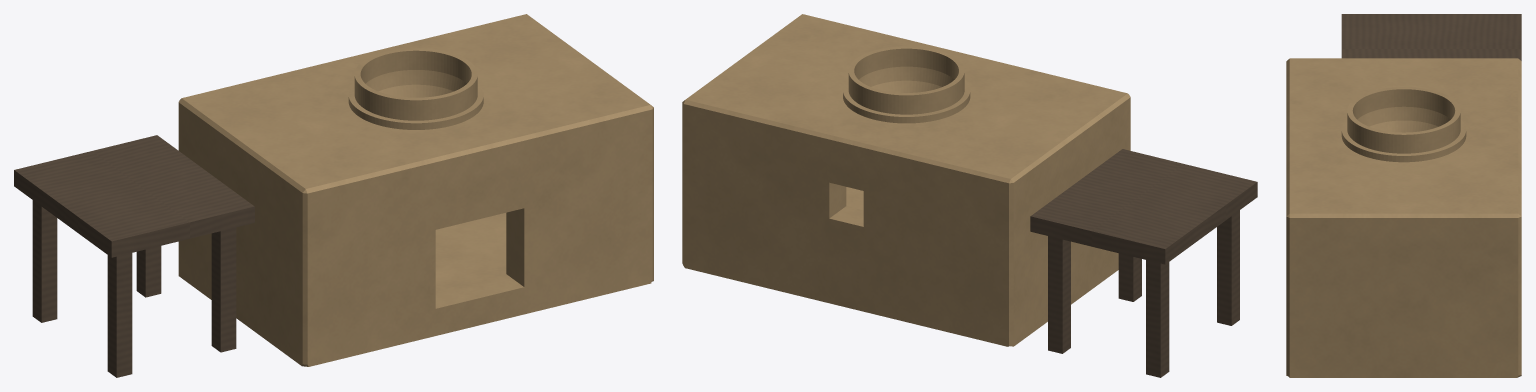
Rendered from W2-stove-A-LOD0.glb.
The picture shows the model from 3 angles, left to right: view 1: azimuth 30°, elevation 25°; view 2: azimuth 150°, elevation 25°; view 3: azimuth 270°, elevation 25°; orthographic projection. The views are drawn at different scales.
Parts seen in each view (by area): view 1: C_LIFE_W2_STOVE_A_V1__A_earth, C_LIFE_W2_STOVE_A_V1__A_timber; view 2: C_LIFE_W2_STOVE_A_V1__A_earth, C_LIFE_W2_STOVE_A_V1__A_timber; view 3: C_LIFE_W2_STOVE_A_V1__A_earth, C_LIFE_W2_STOVE_A_V1__A_timber.
Boxes of the visible parts, <box> form: C_LIFE_W2_STOVE_A_V1__A_earth: <box>178,14,653,366</box>; C_LIFE_W2_STOVE_A_V1__A_timber: <box>14,135,254,377</box>; C_LIFE_W2_STOVE_A_V1__A_earth: <box>682,14,1130,346</box>; C_LIFE_W2_STOVE_A_V1__A_timber: <box>1030,149,1257,377</box>; C_LIFE_W2_STOVE_A_V1__A_earth: <box>1286,58,1521,377</box>; C_LIFE_W2_STOVE_A_V1__A_timber: <box>1341,14,1521,60</box>.
Bounding box in the file's own units: 1.97 × 0.75 × 0.85.
2 materials, 2 textured.
